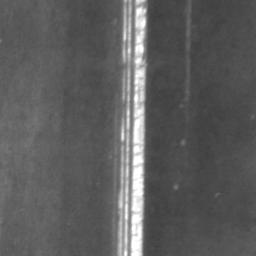Bright scratch: (115, 0, 148, 256)
